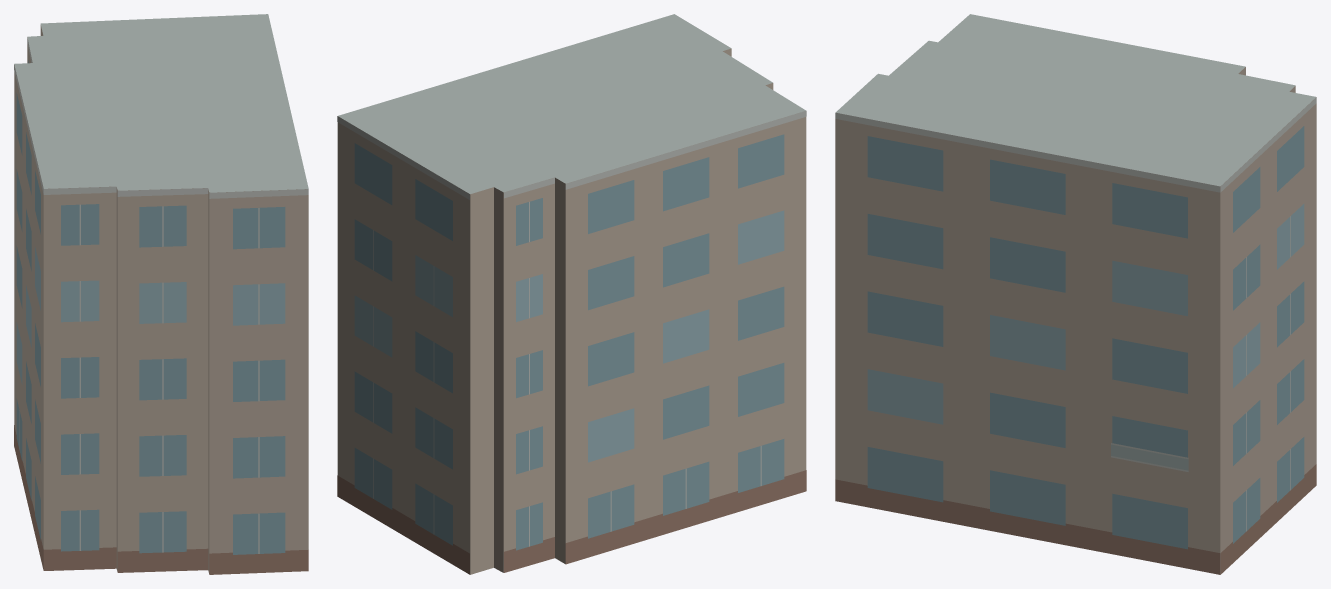
Rendered from survey-upis-32579801.glb.
The picture shows the model from 3 angles, left to right: view 1: azimuth 30°, elevation 25°; view 2: azimuth 150°, elevation 25°; view 3: azimuth 270°, elevation 25°; orthographic projection. The views are drawn at different scales.
Parts seen in each view (by area): view 1: survey-upis-32579801.tmp; view 2: survey-upis-32579801.tmp; view 3: survey-upis-32579801.tmp.
Boxes of the visible parts, bbox=[...] form: survey-upis-32579801.tmp: bbox=[14, 14, 308, 574]; survey-upis-32579801.tmp: bbox=[337, 14, 806, 574]; survey-upis-32579801.tmp: bbox=[835, 14, 1316, 574].
Size of the model in its own units: 14.53 by 15.25 by 17.13.
